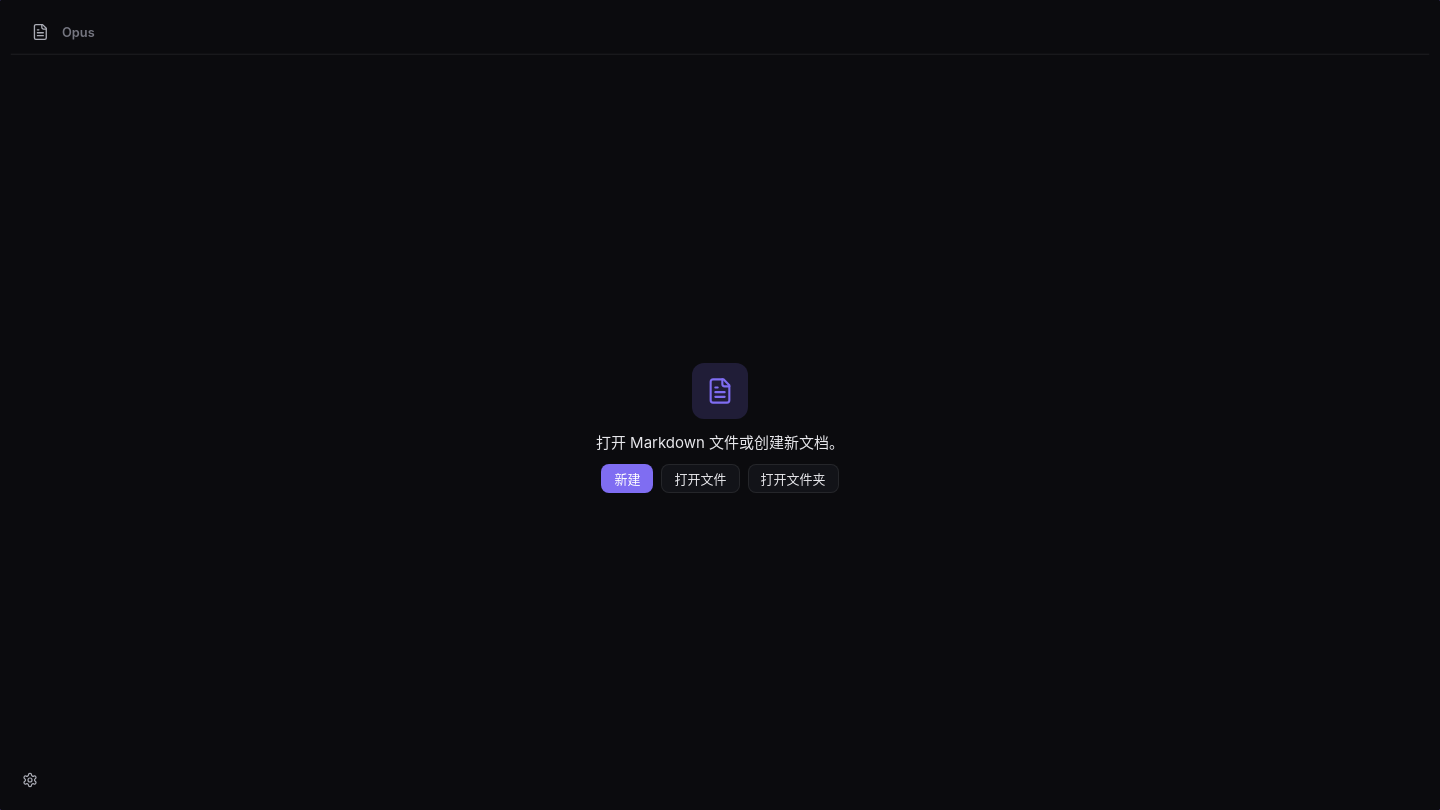
Test: AppShell custom file header › opens the settings dialog from the sidebar gear on Windows
Press o
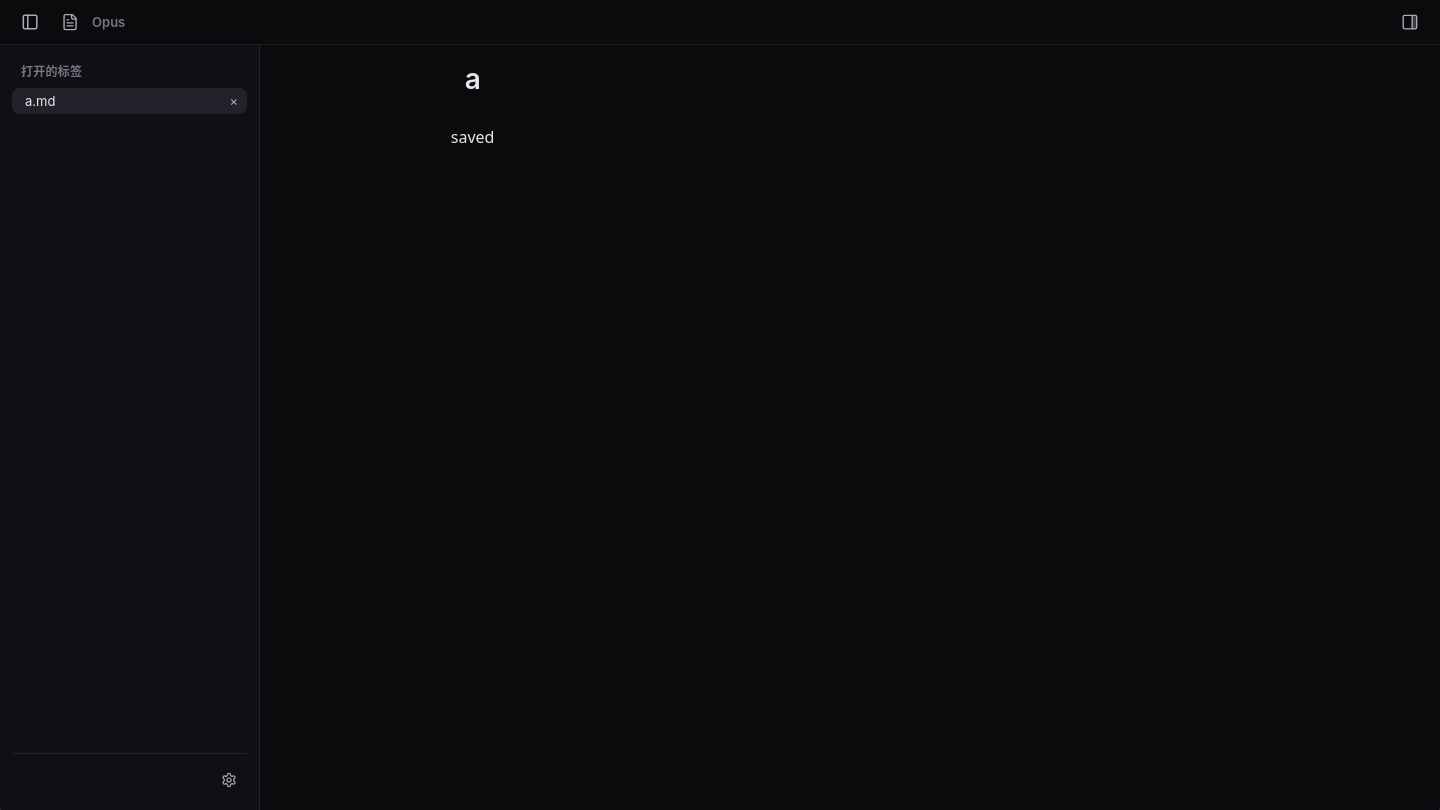
Expected: the tab "a.md" is shown, [12, 88, 221, 114]
Click the button named "设置" at (229, 780), box [211, 762, 247, 798]
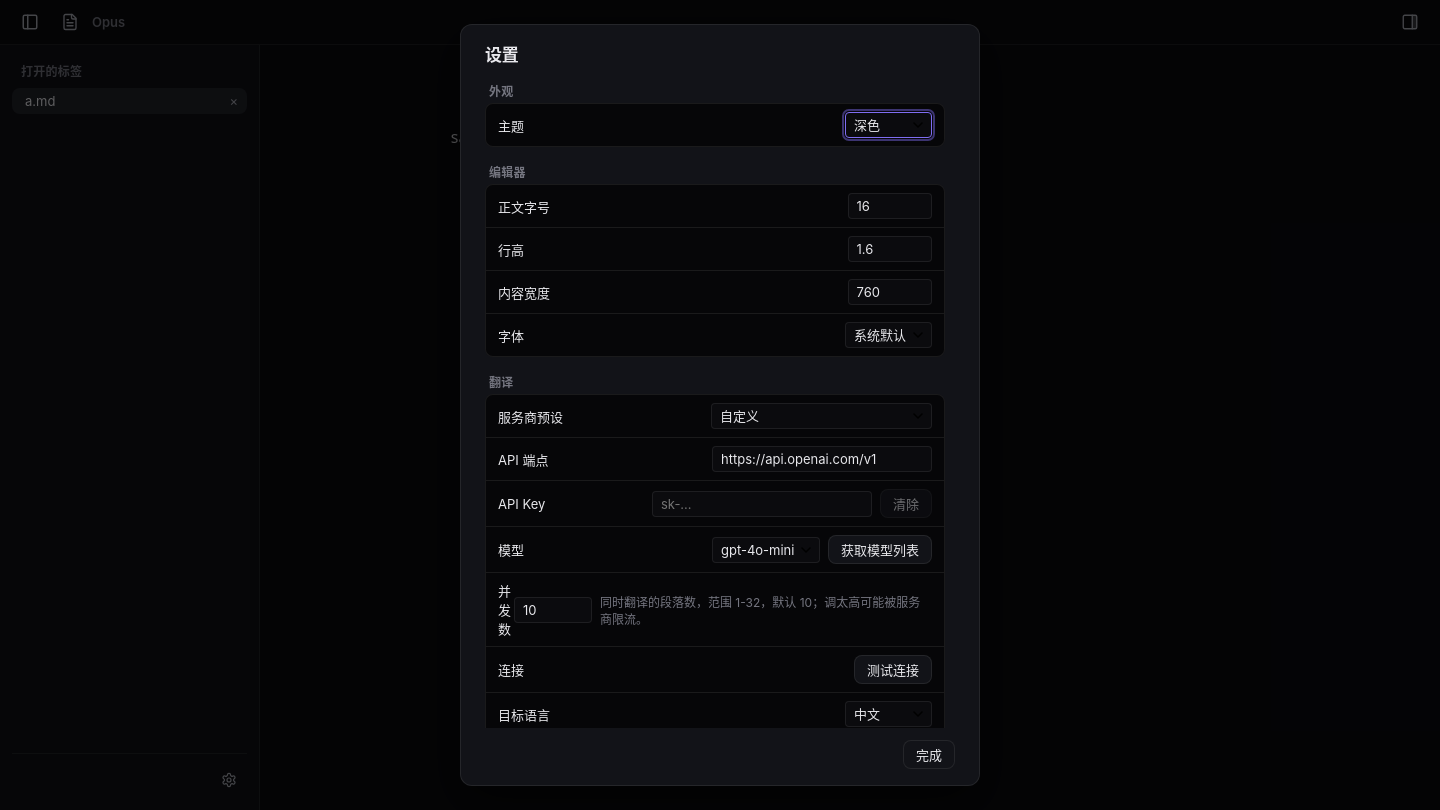
Expected: the dialog "设置" is shown, [460, 24, 980, 786]
